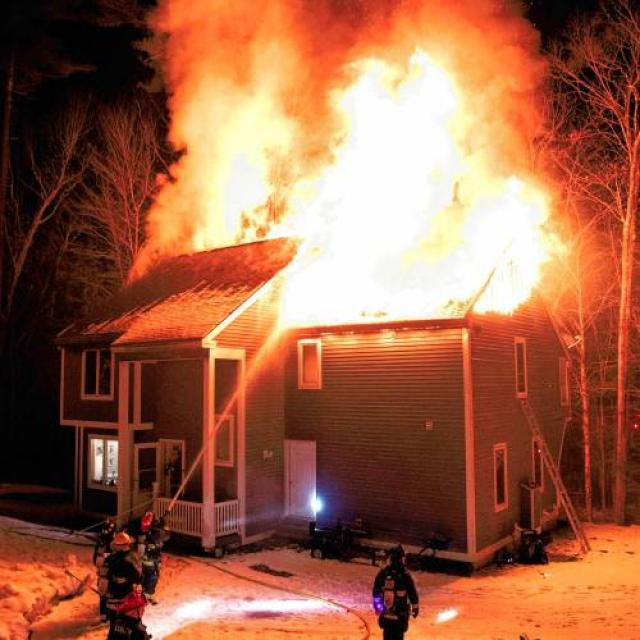Fire: (219, 57, 546, 337)
Smoke: (158, 0, 596, 238)
